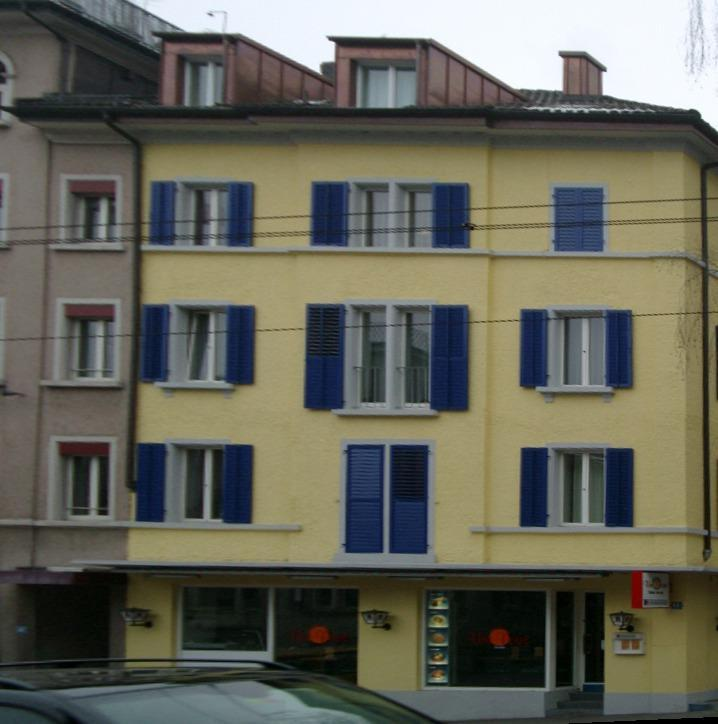window: (550, 313, 609, 390), (171, 443, 224, 525), (553, 449, 607, 529), (58, 442, 111, 521), (346, 445, 384, 554), (390, 445, 428, 554), (177, 306, 227, 384), (65, 306, 117, 380), (395, 306, 431, 408), (350, 306, 386, 408), (347, 58, 417, 109), (555, 187, 604, 254), (68, 180, 116, 243), (181, 184, 229, 246), (176, 55, 226, 109), (353, 182, 389, 248), (396, 183, 432, 248)
